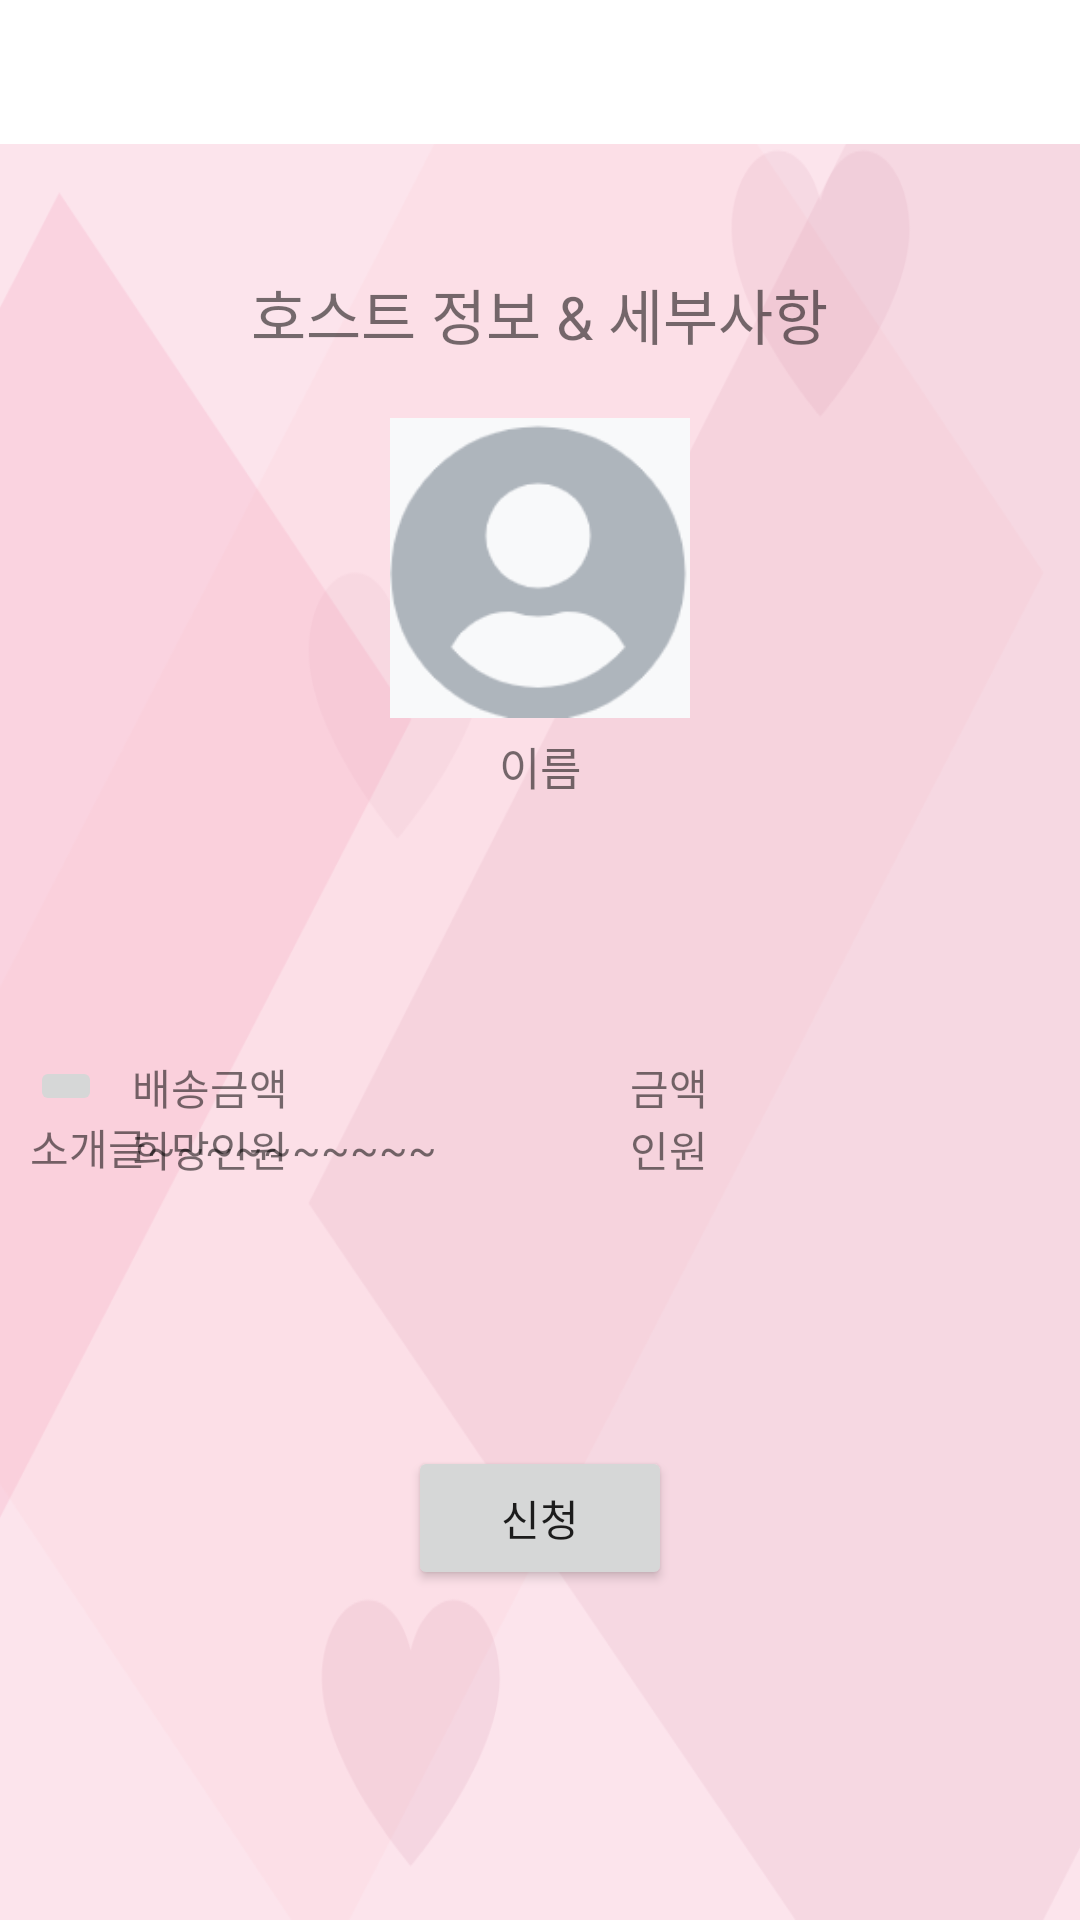

Where to tap for icons on this 1080px×1920px app screen, as point (x, y):
profile pic: point (540, 568)
